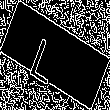L_NE: (36, 26, 74, 84)
